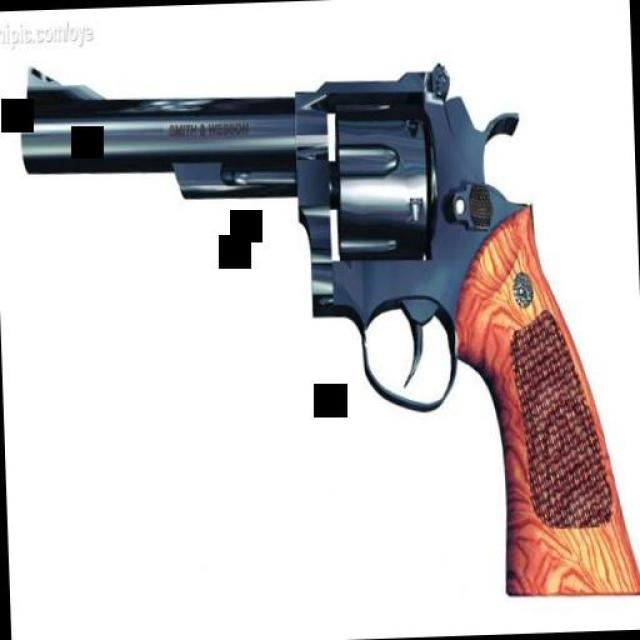gun: (15, 46, 640, 615)
